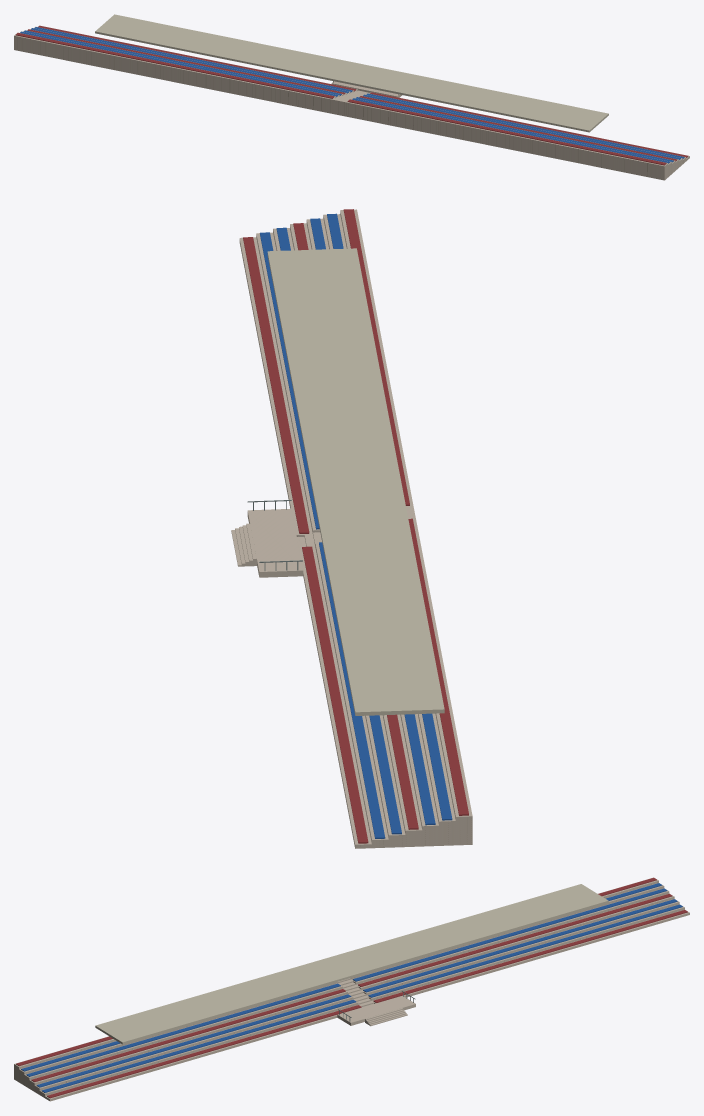
3 renders of one model, top to bottom at view 1: azimuth 30°, elevation 25°; view 2: azimuth 150°, elevation 25°; view 3: azimuth 270°, elevation 25°, orthographic. The views are drawn at different scales.
Parts seen in each view (by area): view 1: B20_grandstand, Grandstand_canopy_estimated, Grandstand_seating, Stadium_ceremonial_platform; view 2: Grandstand_canopy_estimated, Grandstand_seating, B20_grandstand, Stadium_ceremonial_platform; view 3: B20_grandstand, Grandstand_seating, Grandstand_canopy_estimated, Stadium_ceremonial_platform.
Part boxes in pixels (box(x1,y1,x2,y2)): B20_grandstand: box(14, 25, 689, 180); Grandstand_canopy_estimated: box(95, 14, 608, 132); Grandstand_seating: box(16, 25, 688, 165); Stadium_ceremonial_platform: box(331, 81, 402, 97); Grandstand_canopy_estimated: box(267, 248, 444, 715); Grandstand_seating: box(243, 209, 468, 843); B20_grandstand: box(239, 209, 472, 848); Stadium_ceremonial_platform: box(231, 500, 303, 577); B20_grandstand: box(14, 877, 689, 1101); Grandstand_seating: box(16, 877, 687, 1098); Grandstand_canopy_estimated: box(95, 884, 608, 1044); Stadium_ceremonial_platform: box(337, 991, 415, 1026).
Size of the model in its own units: 87.34 by 6.8 by 120.
5 materials, 1 textured.
